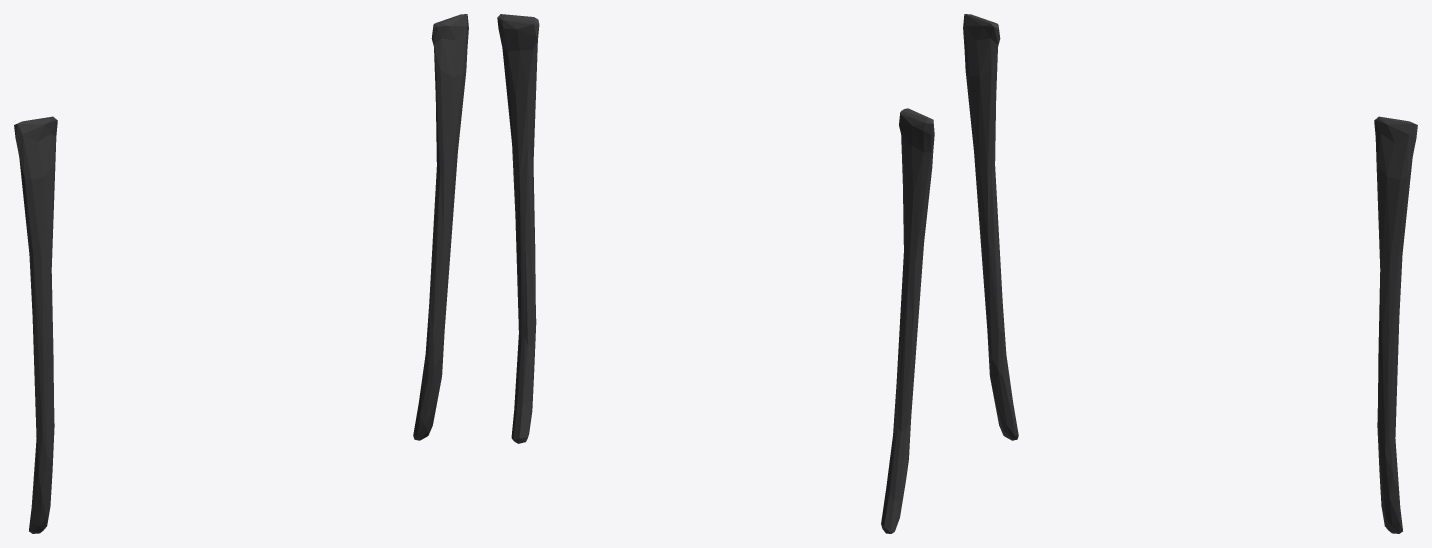
The model's file is lig_distal_accessory.glb.
3 views of the same model, side by side, from view 1: azimuth 30°, elevation 25°; view 2: azimuth 150°, elevation 25°; view 3: azimuth 330°, elevation 25° (orthographic). The views are drawn at different scales.
Parts seen in each view (by area): view 1: lig_distal_accessory; view 2: lig_distal_accessory; view 3: lig_distal_accessory.
Part boxes in pixels (x1,y1,x2,y2): lig_distal_accessory: (14,14,468,533); lig_distal_accessory: (497,14,934,533); lig_distal_accessory: (963,14,1417,533).
Size of the model in its own units: 0.00368 by 0.00333 by 0.000306.
Materials: 1 (1 with a texture image).
